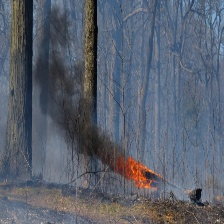fire: (110, 153, 161, 191)
smoke: (38, 14, 115, 155)
